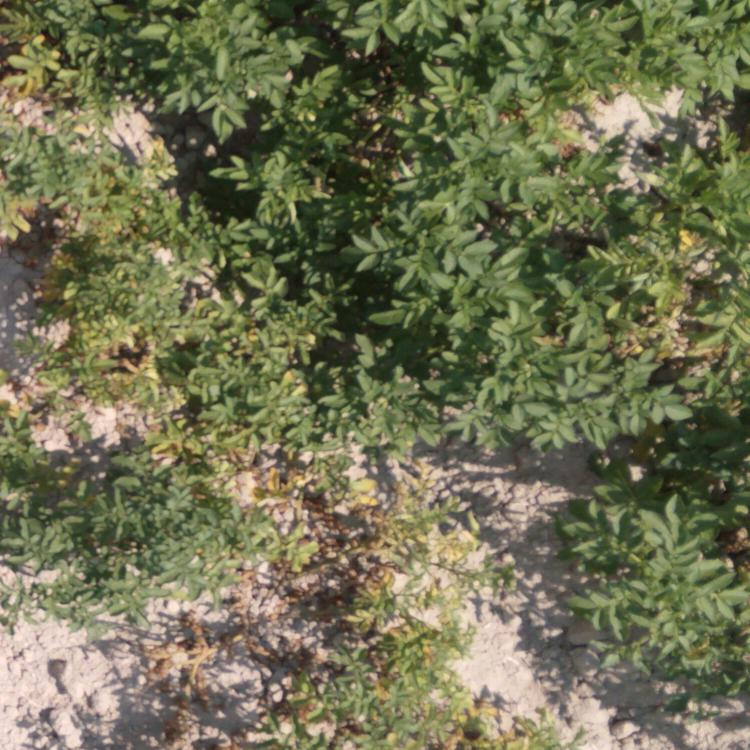healthy: (143, 1, 750, 105), (218, 110, 577, 274), (580, 152, 750, 448), (562, 458, 750, 683), (337, 282, 572, 440), (1, 476, 226, 621)
stressed: (260, 471, 479, 750), (1, 279, 239, 474), (1, 118, 211, 269), (1, 6, 135, 114), (247, 300, 329, 462), (477, 690, 585, 750)
